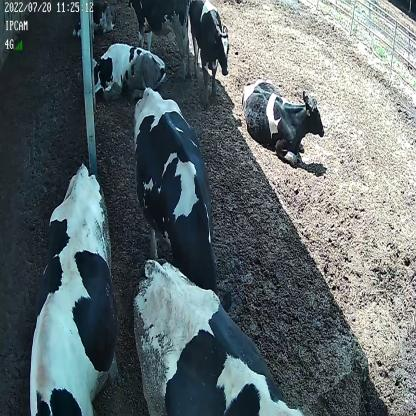cow: (132, 83, 235, 321), (25, 162, 119, 416), (239, 76, 328, 166), (87, 40, 168, 105), (185, 0, 232, 106)
